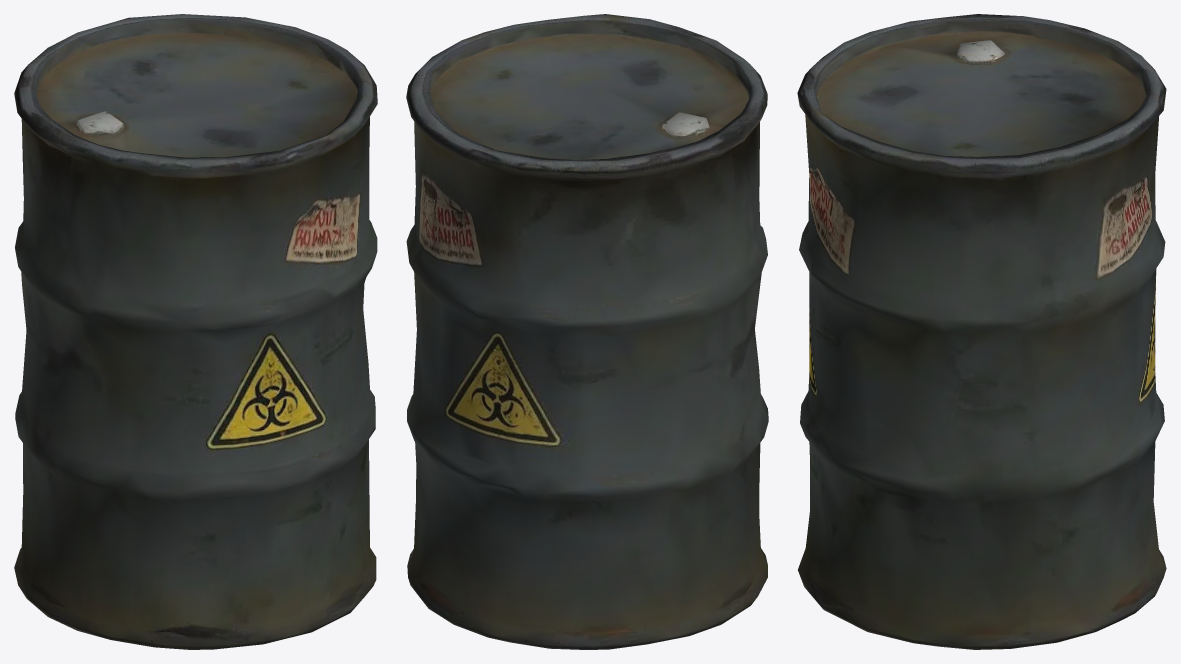
The model's file is barrel-web.glb.
3 renders of one model, left to right at view 1: azimuth 30°, elevation 25°; view 2: azimuth 150°, elevation 25°; view 3: azimuth 270°, elevation 25°, orthographic.
Visible parts, largest first — view 1: Mesh_0; view 2: Mesh_0; view 3: Mesh_0.
Boxes of the visible parts, box(x1,y1,x2,y2) form: Mesh_0: box(14, 14, 377, 649); Mesh_0: box(406, 14, 768, 649); Mesh_0: box(797, 14, 1166, 649).
Bounding box in the file's own units: 1.29 × 1.91 × 1.3.
1 material, 1 textured.
